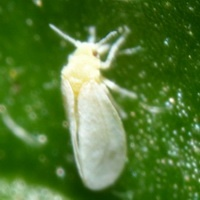insect: (49, 24, 128, 189)
